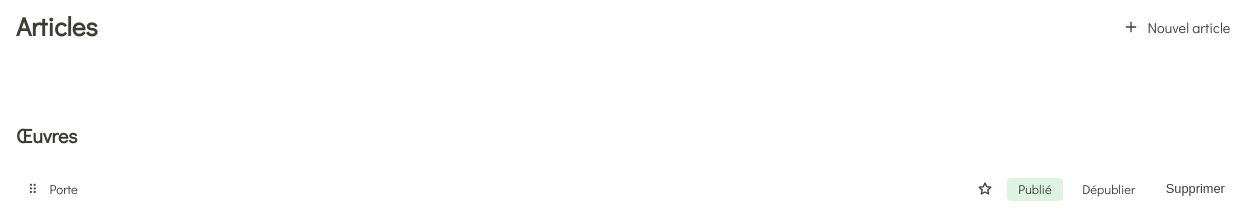
Scenario: ArticleList › toggles publish status via a PATCH and updates the badge
Expected: the link "Porte" is shown, [50,180,78,197]
Click the button "Dépublier".
click(1109, 189)  # box [1071,178,1147,200]
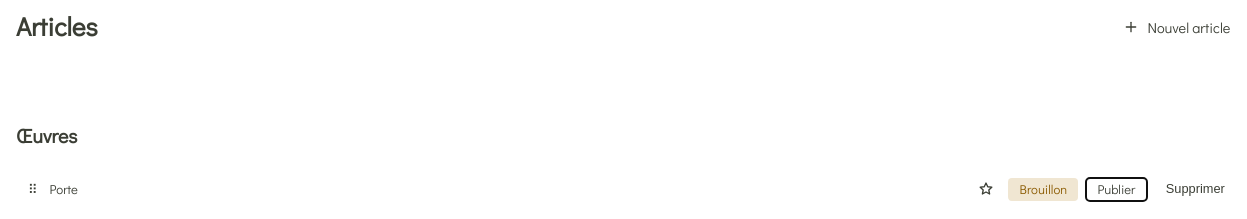
Now the text "Brouillon" is shown, box [1008,178,1078,200]
